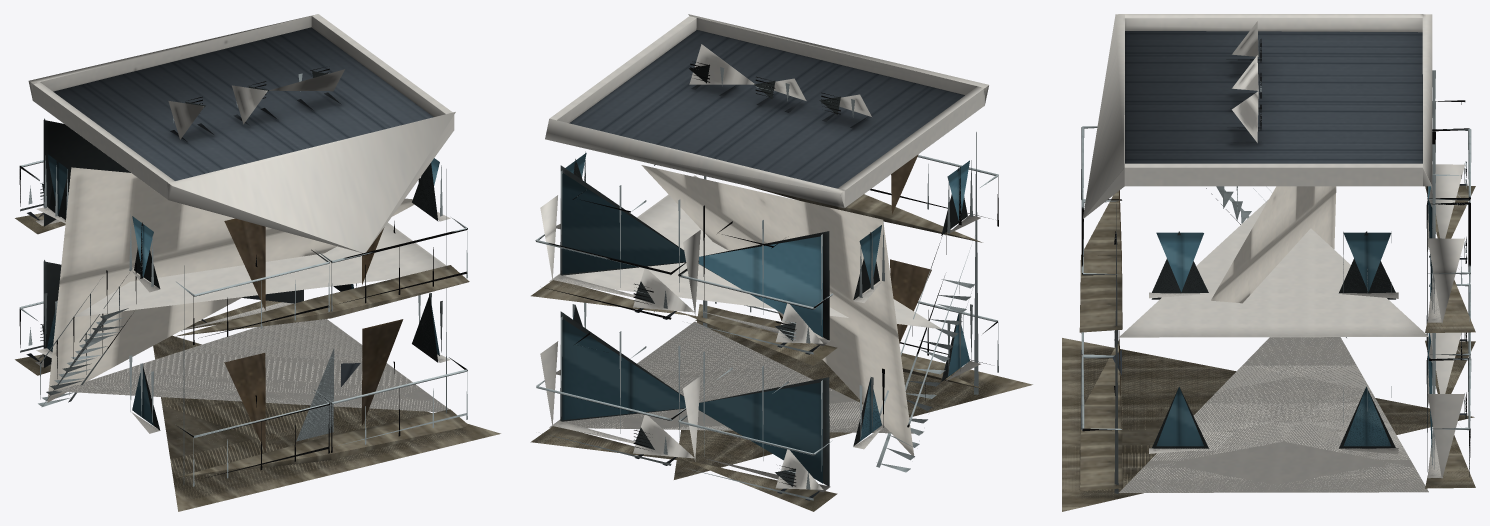
Rendered from residential_015.lod2.obj.
3 views of the same model, side by side, from view 1: azimuth 30°, elevation 25°; view 2: azimuth 150°, elevation 25°; view 3: azimuth 270°, elevation 25° (orthographic). The views are drawn at different scales.
Visible parts, largest first — view 1: residential_015; view 2: residential_015; view 3: residential_015.
Boxes of the visible parts, box(x1,y1,x2,y2) form: residential_015: box(15, 14, 500, 511); residential_015: box(530, 14, 1032, 511); residential_015: box(1062, 14, 1475, 511).
Size of the model in its own units: 7.34 by 6.91 by 7.2.
Materials: 1 (1 with a texture image).
